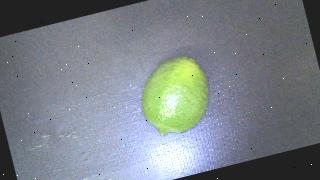EXPORTACION: (133, 52, 218, 140)
